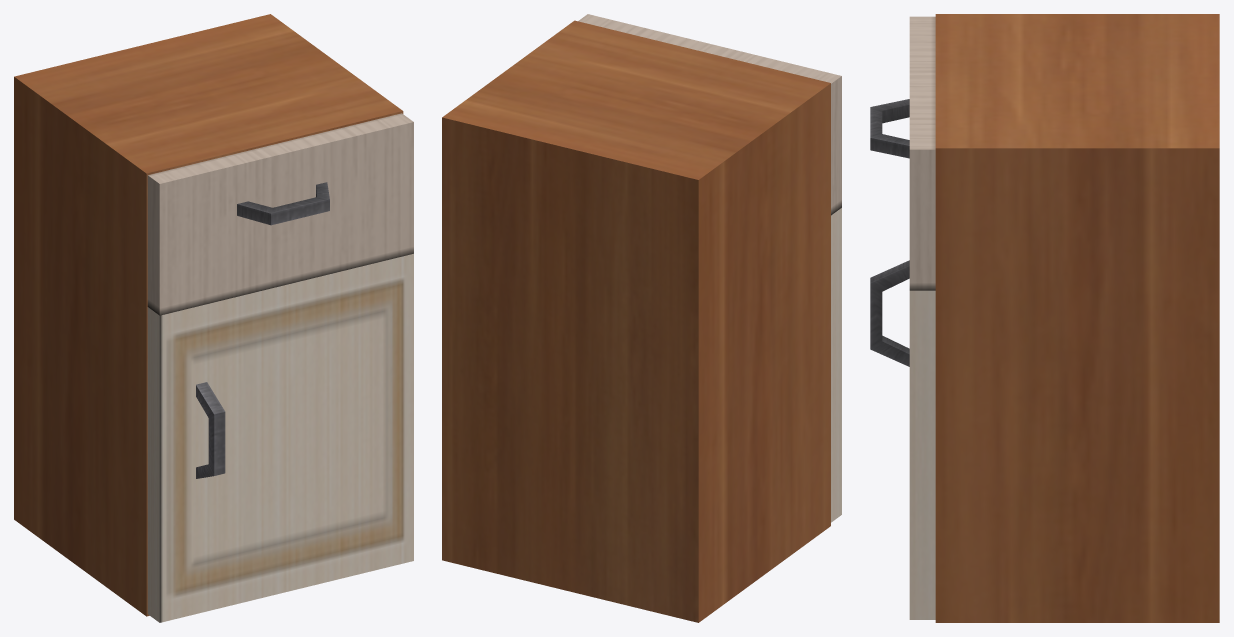
File: Kitchen_Cabinet_1C.fbx
The picture shows the model from 3 angles, left to right: view 1: azimuth 30°, elevation 25°; view 2: azimuth 150°, elevation 25°; view 3: azimuth 270°, elevation 25°; orthographic projection. The views are drawn at different scales.
Visible parts, largest first — view 1: polySurface539; view 2: polySurface539; view 3: polySurface539.
Part boxes in pixels (bbox=[...]): polySurface539: bbox=[14, 14, 413, 622]; polySurface539: bbox=[442, 14, 841, 622]; polySurface539: bbox=[870, 14, 1219, 622].
Size of the model in its own units: 0.7792 by 1.29 by 0.8565.
